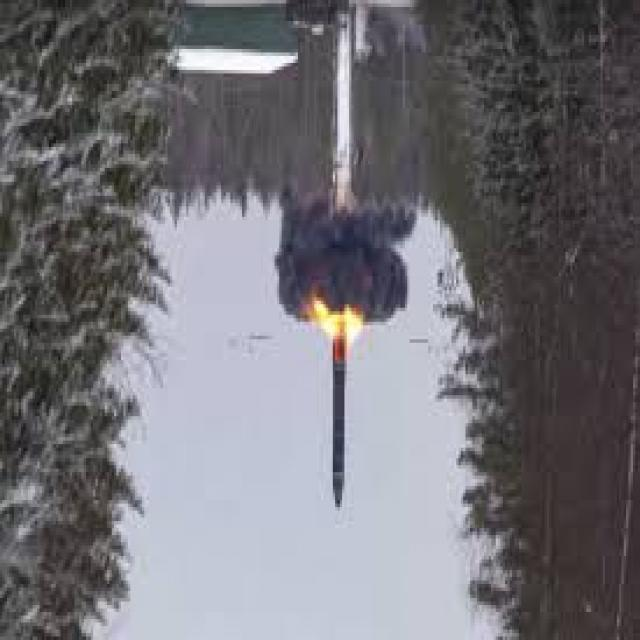missile: (324, 307, 350, 504)
